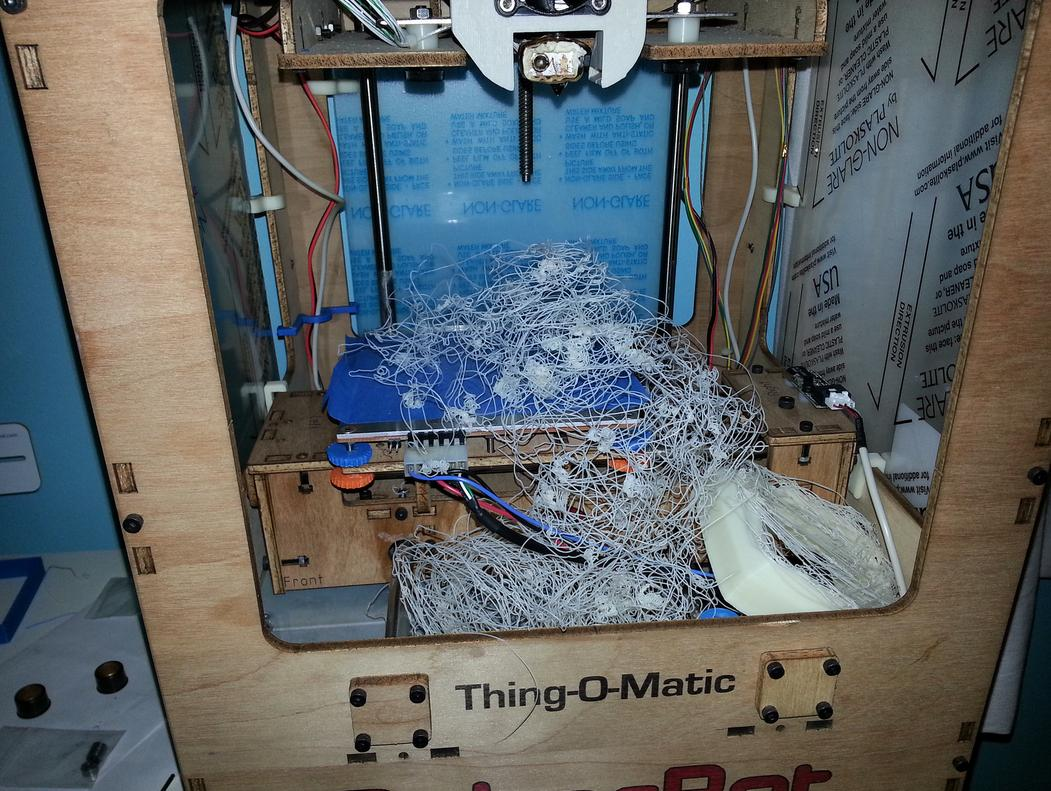Printing-Artifact: (376, 234, 738, 640)
